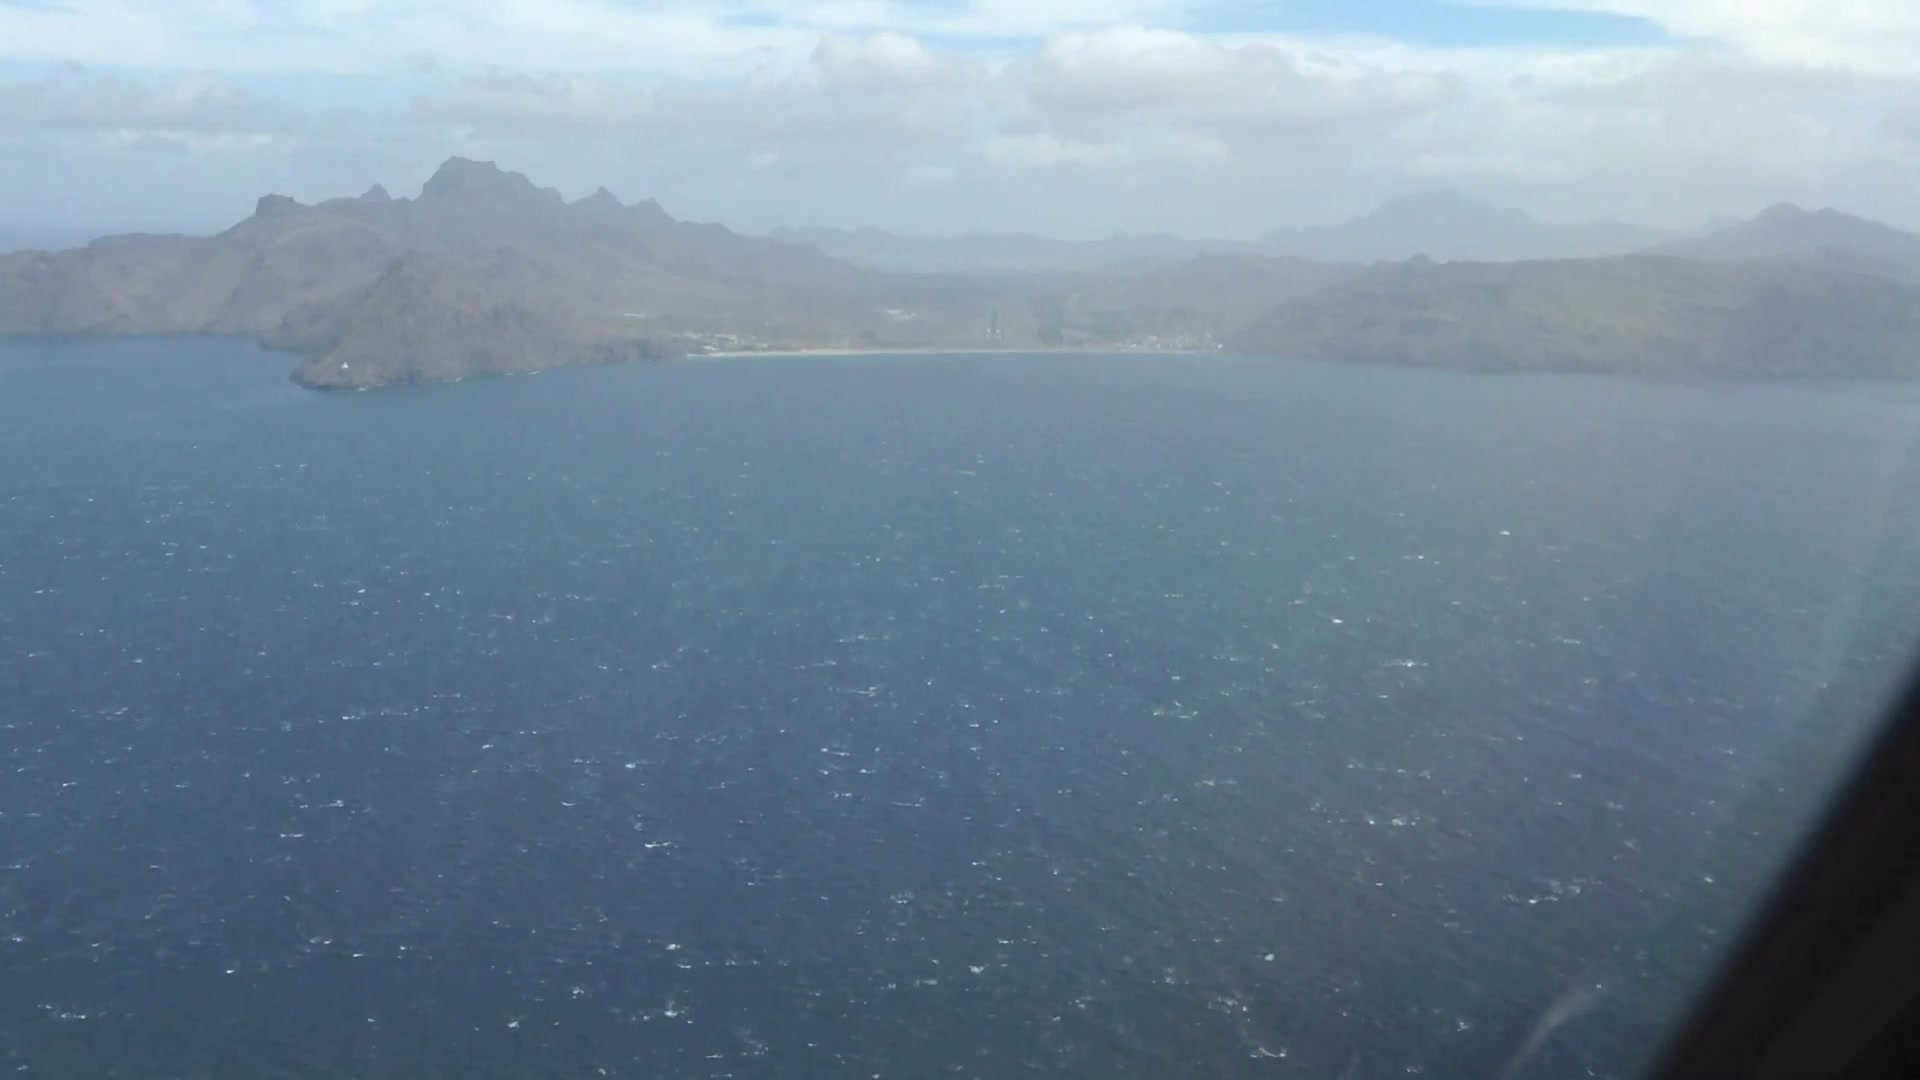runway: (984, 301, 1004, 344)
